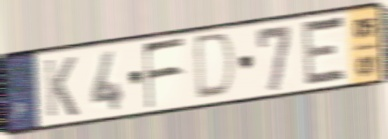4: (89, 47, 126, 114)
7: (255, 22, 295, 93)
D: (194, 30, 239, 103)
E: (301, 14, 349, 90)
F: (141, 35, 187, 111)
K: (42, 54, 81, 120)
